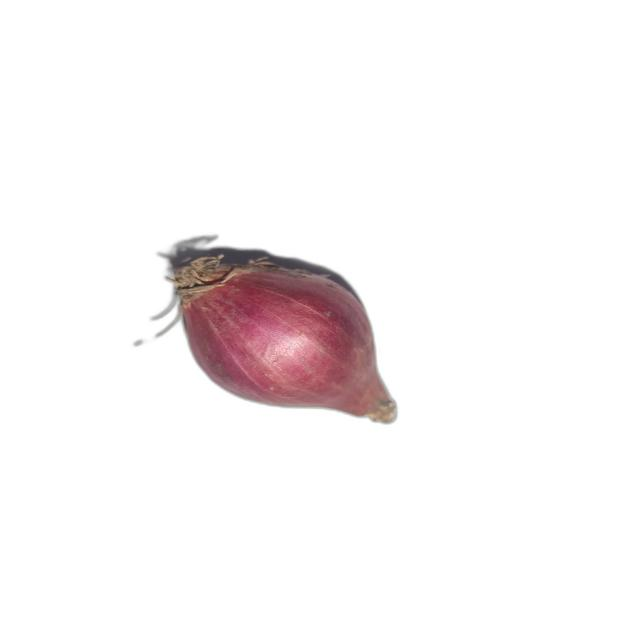onion: (161, 253, 398, 423)
